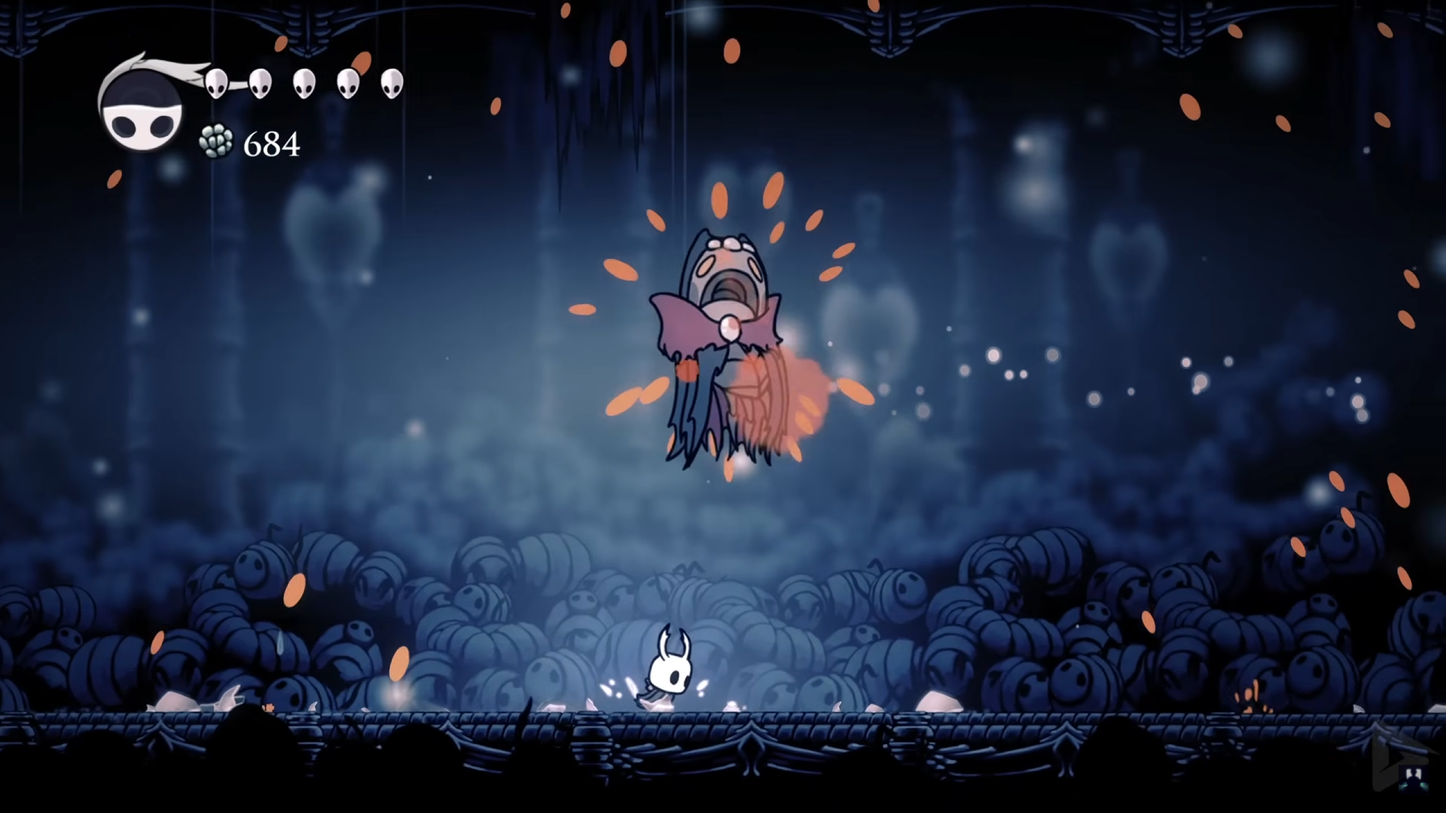HK: (638, 623, 696, 715)
